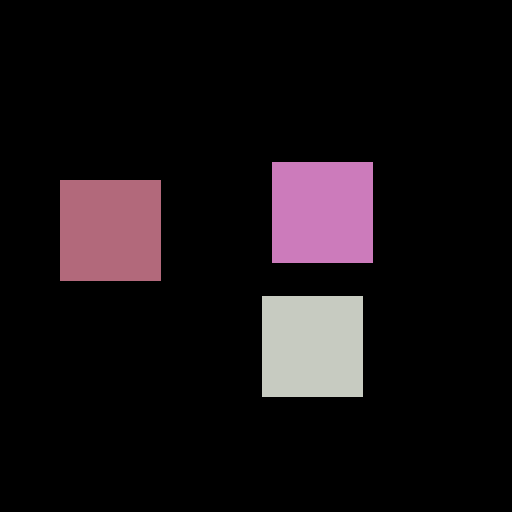square: (262, 296, 362, 396), (60, 180, 160, 280), (272, 162, 372, 262)
